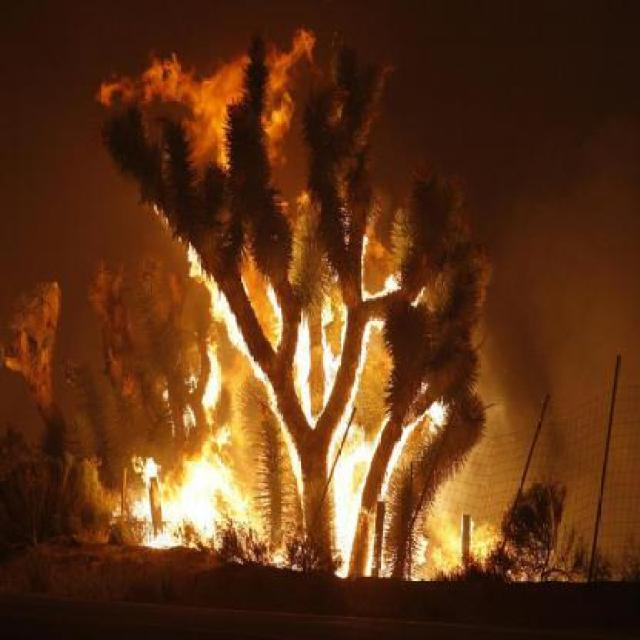Fire: (113, 428, 254, 574), (330, 424, 370, 576), (206, 284, 256, 362), (294, 309, 316, 426), (322, 300, 344, 396), (372, 440, 406, 494), (201, 333, 221, 418), (361, 273, 407, 299), (182, 243, 200, 282), (428, 398, 444, 432), (392, 424, 426, 436), (416, 536, 430, 561)
